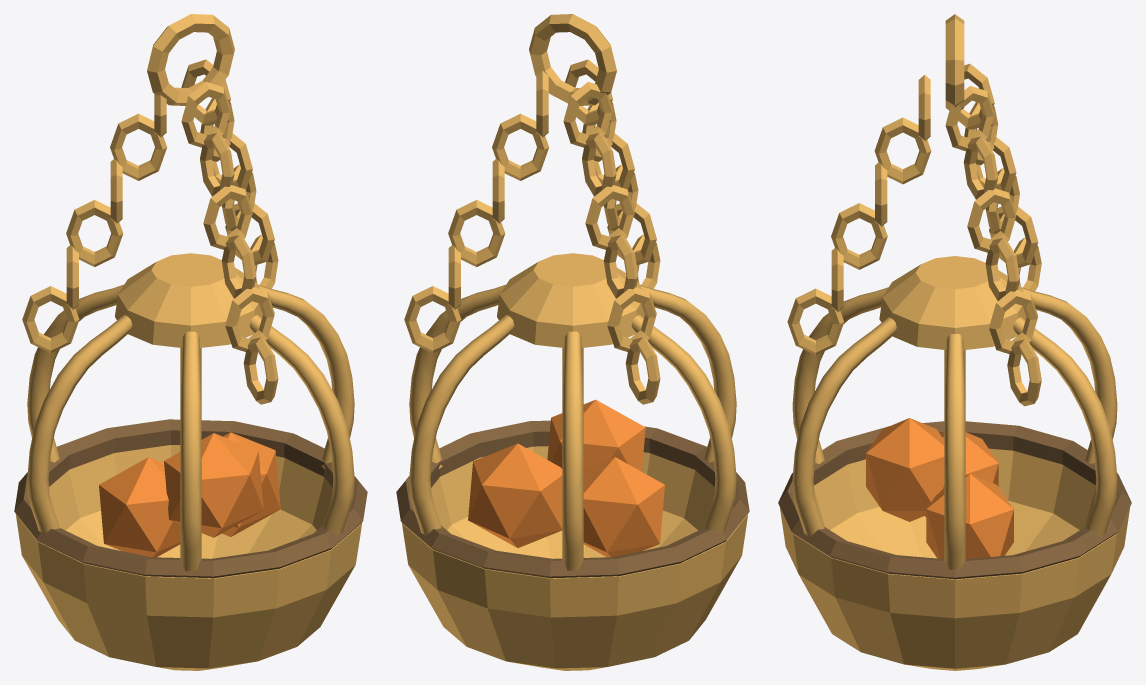
Rendered from spirit_incense.obj.
The picture shows the model from 3 angles, left to right: view 1: azimuth 30°, elevation 25°; view 2: azimuth 150°, elevation 25°; view 3: azimuth 270°, elevation 25°; orthographic projection.
Parts seen in each view (by area): view 1: A_RoundBowl.001_spirit_incense_brass, B_LowerRim.001_spirit_incense_deep_bronze, D_TopCap.001_spirit_incense_brass, E_ResinGrain2.001_spirit_incense_amber_resin, E_ResinGrain0.001_spirit_incense_amber_resin, C_CagePetal3.001_spirit_incense_brass, C_CagePetal4.001_spirit_incense_brass, C_CagePetal5.001_spirit_incense_brass, G_SuspensionLoop.001_spirit_incense_brass, C_CagePetal0.001_spirit_incense_brass, C_CagePetal2.001_spirit_incense_brass, F_Chain2_0.001_spirit_incense_brass (+17 smaller); view 2: A_RoundBowl.001_spirit_incense_brass, B_LowerRim.001_spirit_incense_deep_bronze, D_TopCap.001_spirit_incense_brass, E_ResinGrain1.001_spirit_incense_amber_resin, E_ResinGrain0.001_spirit_incense_amber_resin, C_CagePetal1.001_spirit_incense_brass, C_CagePetal2.001_spirit_incense_brass, C_CagePetal3.001_spirit_incense_brass, E_ResinGrain2.001_spirit_incense_amber_resin, G_SuspensionLoop.001_spirit_incense_brass, C_CagePetal4.001_spirit_incense_brass, C_CagePetal0.001_spirit_incense_brass (+17 smaller); view 3: A_RoundBowl.001_spirit_incense_brass, B_LowerRim.001_spirit_incense_deep_bronze, D_TopCap.001_spirit_incense_brass, E_ResinGrain2.001_spirit_incense_amber_resin, C_CagePetal5.001_spirit_incense_brass, C_CagePetal0.001_spirit_incense_brass, C_CagePetal1.001_spirit_incense_brass, E_ResinGrain1.001_spirit_incense_amber_resin, C_CagePetal2.001_spirit_incense_brass, C_CagePetal4.001_spirit_incense_brass, F_Chain0_0.001_spirit_incense_brass, F_Chain0_4.001_spirit_incense_brass (+18 smaller).
Boxes of the visible parts, <box> form: A_RoundBowl.001_spirit_incense_brass: <box>16,445,361,670</box>; B_LowerRim.001_spirit_incense_deep_bronze: <box>14,419,367,578</box>; D_TopCap.001_spirit_incense_brass: <box>115,253,262,347</box>; E_ResinGrain2.001_spirit_incense_amber_resin: <box>164,433,263,537</box>; E_ResinGrain0.001_spirit_incense_amber_resin: <box>99,457,180,557</box>; C_CagePetal3.001_spirit_incense_brass: <box>27,314,132,534</box>; C_CagePetal4.001_spirit_incense_brass: <box>180,331,201,571</box>; C_CagePetal5.001_spirit_incense_brass: <box>249,314,354,535</box>; G_SuspensionLoop.001_spirit_incense_brass: <box>147,14,234,105</box>; C_CagePetal0.001_spirit_incense_brass: <box>258,284,354,468</box>; C_CagePetal2.001_spirit_incense_brass: <box>27,284,123,462</box>; F_Chain2_0.001_spirit_incense_brass: <box>22,286,79,353</box>; A_RoundBowl.001_spirit_incense_brass: <box>402,446,747,670</box>; B_LowerRim.001_spirit_incense_deep_bronze: <box>396,420,749,578</box>; D_TopCap.001_spirit_incense_brass: <box>497,253,644,347</box>; E_ResinGrain1.001_spirit_incense_amber_resin: <box>468,443,562,547</box>; E_ResinGrain0.001_spirit_incense_amber_resin: <box>583,457,664,557</box>; C_CagePetal1.001_spirit_incense_brass: <box>409,314,514,535</box>; C_CagePetal2.001_spirit_incense_brass: <box>562,331,583,571</box>; C_CagePetal3.001_spirit_incense_brass: <box>631,314,736,534</box>; E_ResinGrain2.001_spirit_incense_amber_resin: <box>547,399,645,471</box>; G_SuspensionLoop.001_spirit_incense_brass: <box>529,14,616,105</box>; C_CagePetal4.001_spirit_incense_brass: <box>640,284,736,462</box>; C_CagePetal0.001_spirit_incense_brass: <box>409,284,505,468</box>; A_RoundBowl.001_spirit_incense_brass: <box>780,448,1129,670</box>; B_LowerRim.001_spirit_incense_deep_bronze: <box>778,421,1131,579</box>; D_TopCap.001_spirit_incense_brass: <box>879,256,1026,349</box>; E_ResinGrain2.001_spirit_incense_amber_resin: <box>866,418,944,521</box>; C_CagePetal5.001_spirit_incense_brass: <box>792,317,896,537</box>; C_CagePetal0.001_spirit_incense_brass: <box>944,334,965,569</box>; C_CagePetal1.001_spirit_incense_brass: <box>1013,317,1117,537</box>; E_ResinGrain1.001_spirit_incense_amber_resin: <box>926,474,1013,558</box>; C_CagePetal2.001_spirit_incense_brass: <box>1021,287,1117,463</box>; C_CagePetal4.001_spirit_incense_brass: <box>792,287,888,463</box>; F_Chain0_0.001_spirit_incense_brass: <box>787,288,843,355</box>; F_Chain0_4.001_spirit_incense_brass: <box>874,117,931,184</box>.
Size of the model in its own units: 1.22 by 2.31 by 1.17.
